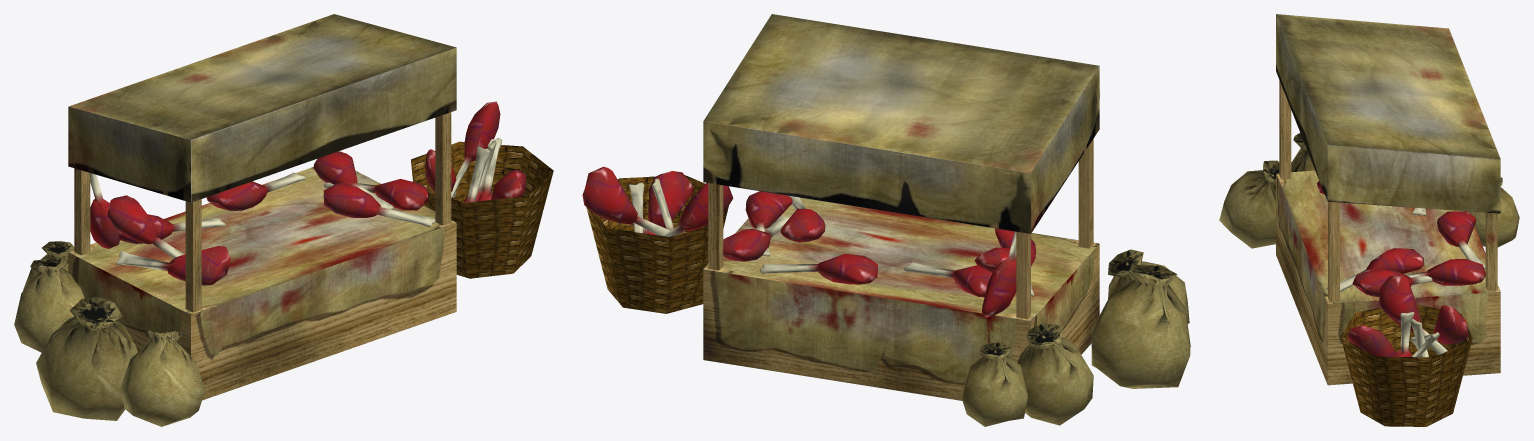
The model's file is meat_store09.fbx.
The picture shows the model from 3 angles, left to right: view 1: azimuth 30°, elevation 25°; view 2: azimuth 150°, elevation 25°; view 3: azimuth 270°, elevation 25°; orthographic projection. The views are drawn at different scales.
Visible parts, largest first — view 1: stand_meat_3, basket_3, bag_9, bag_12, bag_10, meat_41, meat_36, meat_35, meat_30, meat_40, meat_39, meat_42 (+6 smaller); view 2: stand_meat_3, bag_9, basket_3, bag_10, bag_11, meat_30, meat_40, meat_37, meat_29, meat_42, bag_12, meat_39 (+4 smaller); view 3: stand_meat_3, basket_3, bag_12, meat_31, meat_42, bag_11, meat_40, meat_41, meat_30, meat_29, meat_39, bag_9 (+2 smaller).
Part boxes in pixels (box(x1,y1,x2,y2)): stand_meat_3: box(68, 14, 456, 400); basket_3: box(411, 141, 553, 278); bag_9: box(36, 297, 137, 420); bag_12: box(120, 330, 204, 426); bag_10: box(14, 256, 84, 352); meat_41: box(323, 183, 435, 227); meat_36: box(115, 246, 230, 285); meat_35: box(107, 195, 183, 258); meat_30: box(451, 101, 500, 198); meat_40: box(206, 172, 305, 210); meat_39: box(323, 179, 428, 210); meat_42: box(313, 151, 393, 209); stand_meat_3: box(703, 14, 1099, 400); bag_9: box(1091, 264, 1190, 388); basket_3: box(586, 175, 728, 313); bag_10: box(1017, 323, 1093, 425); bag_11: box(962, 342, 1027, 426); meat_30: box(582, 166, 670, 235); meat_40: box(760, 253, 877, 284); meat_37: box(982, 231, 1016, 317); meat_29: box(648, 171, 693, 228); meat_42: box(723, 216, 789, 261); bag_12: box(1108, 249, 1189, 323); meat_39: box(745, 191, 792, 256); stand_meat_3: box(1276, 14, 1500, 385); basket_3: box(1340, 304, 1472, 426); bag_12: box(1219, 160, 1279, 248); meat_31: box(1379, 274, 1447, 355); meat_42: box(1405, 259, 1485, 285); bag_11: box(1469, 177, 1519, 247); meat_40: box(1437, 211, 1485, 268); meat_41: box(1326, 248, 1424, 291); meat_30: box(1410, 305, 1468, 349); meat_29: box(1347, 325, 1397, 356); meat_39: box(1352, 269, 1432, 296); bag_9: box(1291, 133, 1314, 172).
Size of the model in its own units: 118 by 58.16 by 63.14.
